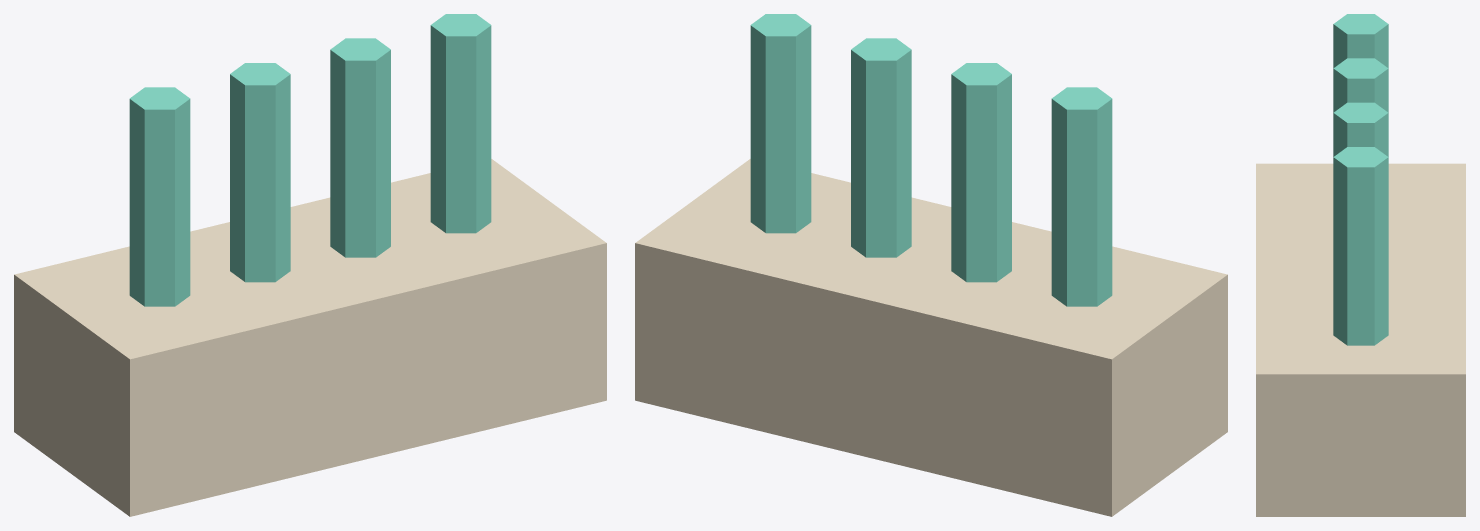
The picture shows the model from 3 angles, left to right: view 1: azimuth 30°, elevation 25°; view 2: azimuth 150°, elevation 25°; view 3: azimuth 270°, elevation 25°; orthographic projection. The views are drawn at different scales.
Parts seen in each view (by area): view 1: Rack, Tube, Tube.003, Tube.001, Tube.002; view 2: Rack, Tube, Tube.003, Tube.001, Tube.002; view 3: Rack, Tube.003, Tube.001, Tube.002, Tube.
Part boxes in pixels (x1,y1,x2,y2): Rack: [14, 159, 606, 516]; Tube: [129, 87, 190, 306]; Tube.003: [430, 14, 491, 233]; Tube.001: [230, 63, 290, 282]; Tube.002: [330, 38, 390, 257]; Rack: [635, 159, 1227, 516]; Tube: [1051, 87, 1112, 306]; Tube.003: [750, 14, 811, 233]; Tube.001: [951, 63, 1011, 282]; Tube.002: [851, 38, 911, 257]; Rack: [1256, 163, 1465, 516]; Tube.003: [1333, 147, 1388, 345]; Tube.001: [1333, 58, 1388, 112]; Tube.002: [1333, 102, 1388, 156]; Tube: [1333, 14, 1388, 67].
Bounding box in the file's own units: 38 × 27 × 16.
